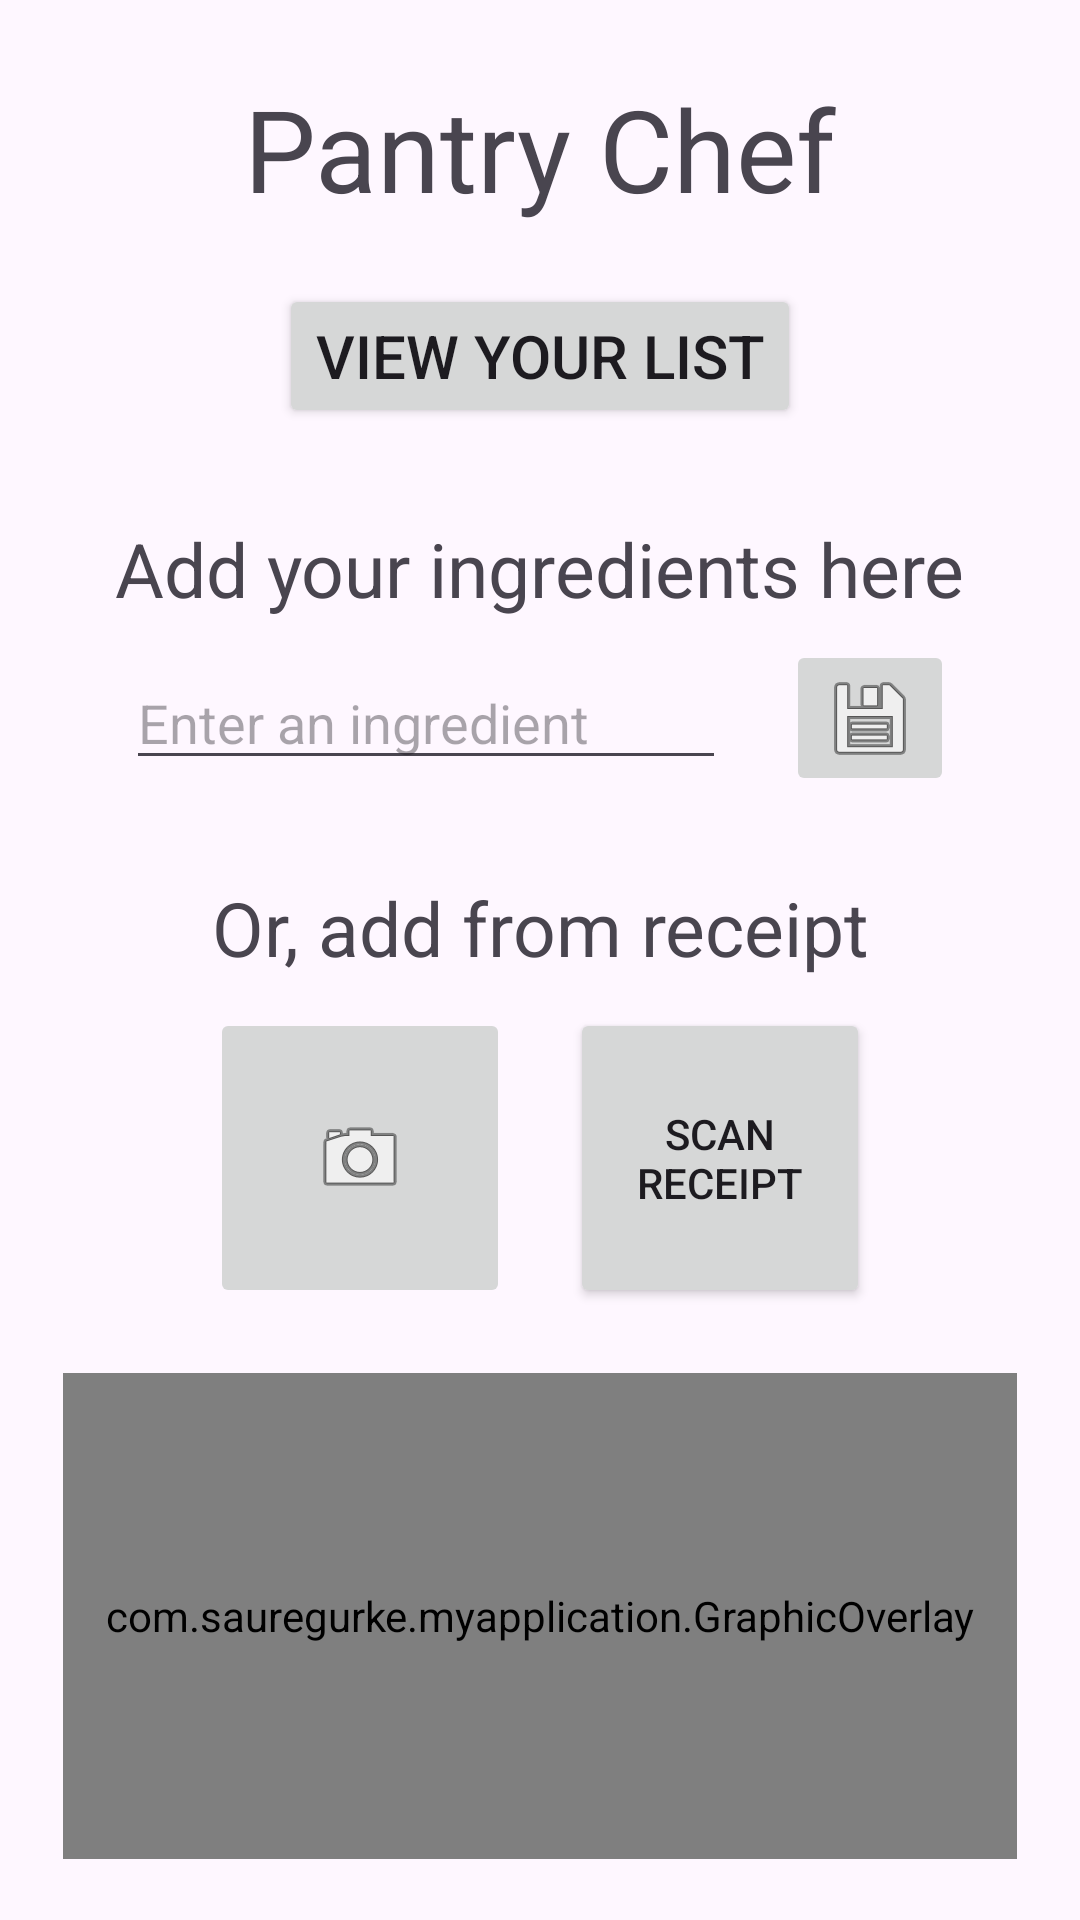

Named icons in this screenshot (1080×1920) and their bounding boxes, (x1, y1, x2, y2):
camera: (222, 1026, 498, 1290)
save: (798, 658, 942, 778)
